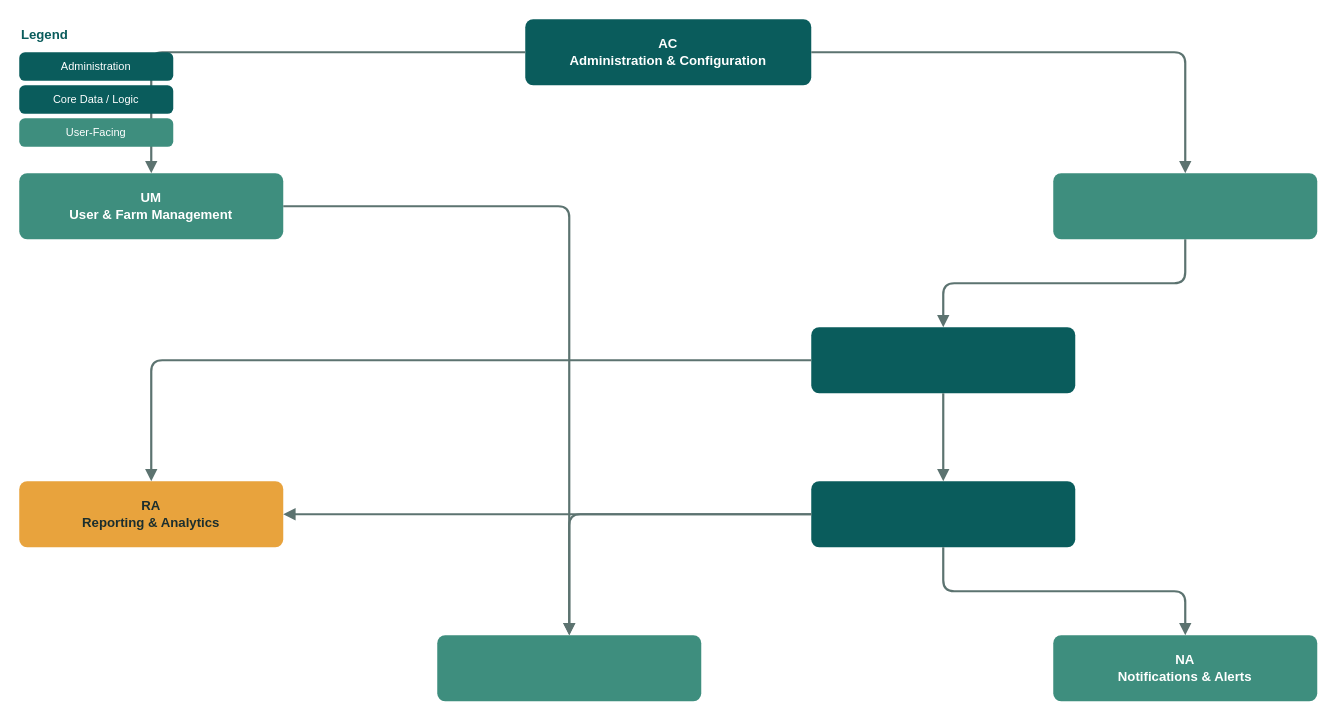
Some shapes in this 1335 by 719 pixel diagram are drawn without their labels. Here are the shapes that lost their labels. From the top down, the box of each, then its label:
(1053, 173, 1317, 239): SD Sensor & Device Management
(811, 327, 1075, 393): DC Data Collection & Integration
(811, 481, 1075, 547): IS Irrigation Scheduling Engine
(437, 635, 701, 701): WD Web Dashboard / UI
